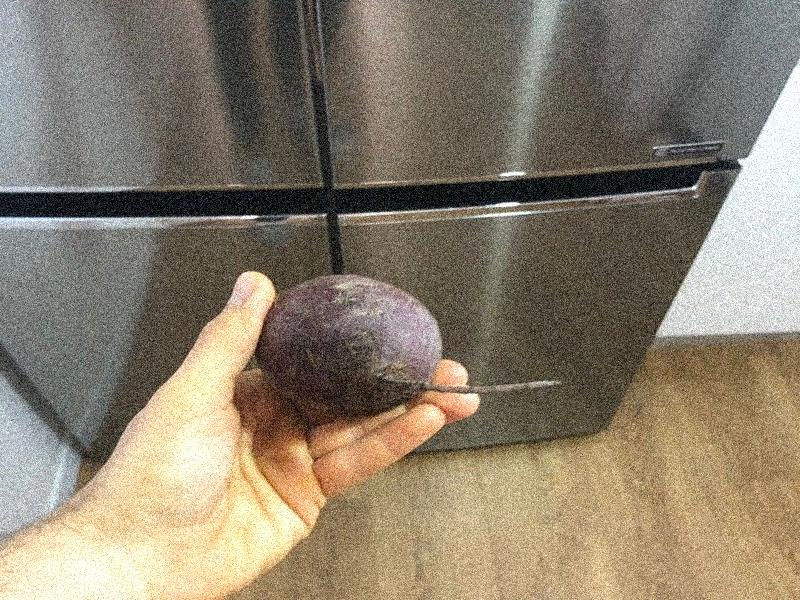Beet: (258, 273, 562, 413)
